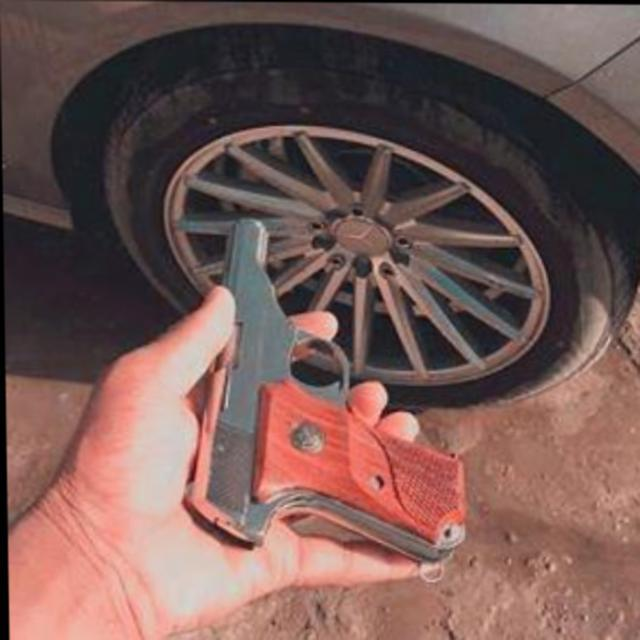weapon: (172, 206, 474, 570)
